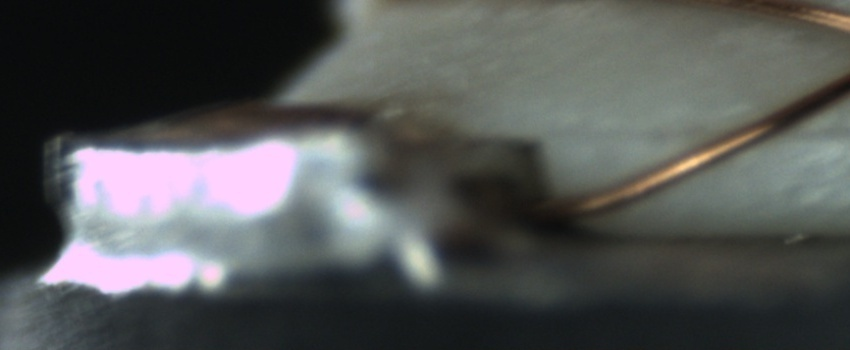DL: (553, 101, 849, 162)
